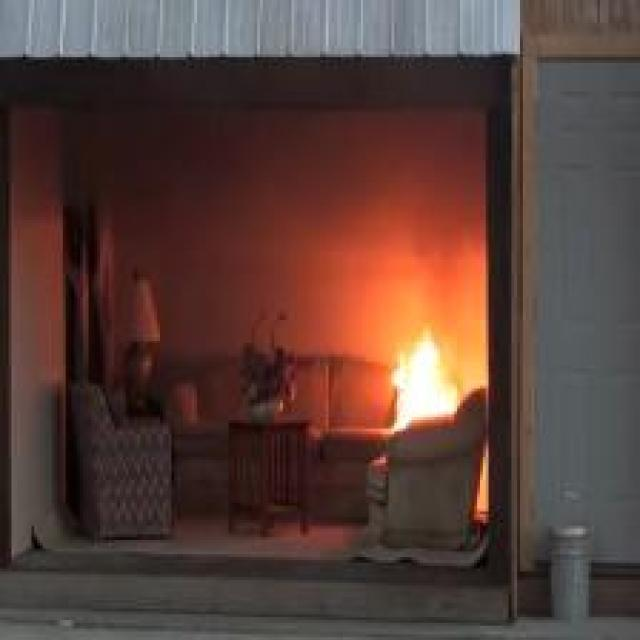Fire: (394, 333, 457, 436)
